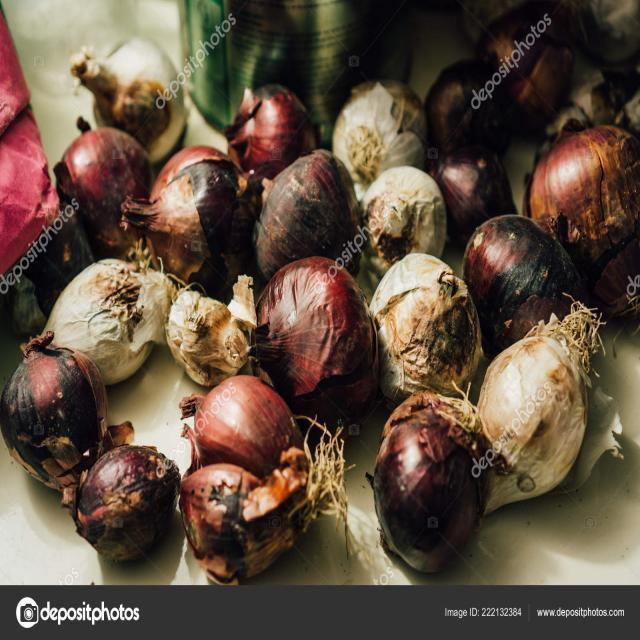Onion: (183, 375, 357, 587), (477, 289, 627, 516), (370, 383, 496, 571), (119, 145, 262, 305), (524, 120, 640, 315), (252, 255, 379, 432), (5, 333, 133, 506), (372, 254, 485, 410), (38, 245, 163, 385), (465, 214, 581, 360), (239, 148, 363, 278), (59, 448, 183, 567), (53, 118, 156, 256), (73, 42, 184, 162), (474, 9, 578, 135), (331, 82, 429, 205), (362, 162, 447, 287), (167, 274, 257, 388), (429, 140, 517, 246), (228, 86, 319, 185), (427, 63, 521, 156)
